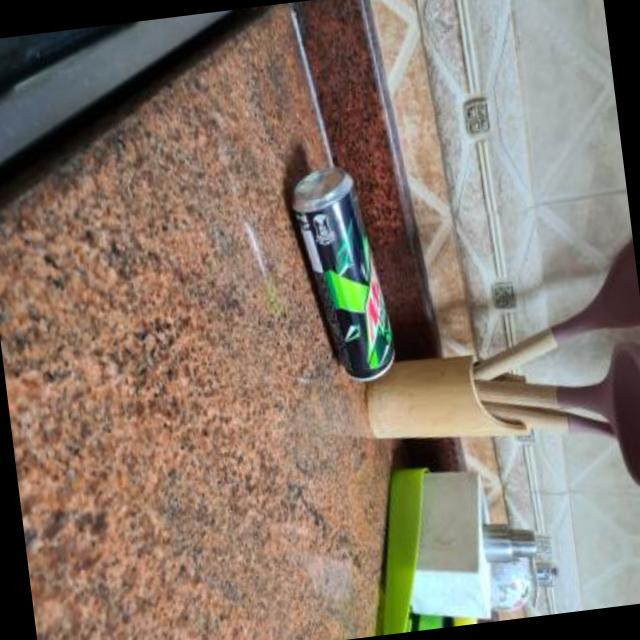metal: (295, 164, 395, 376)
